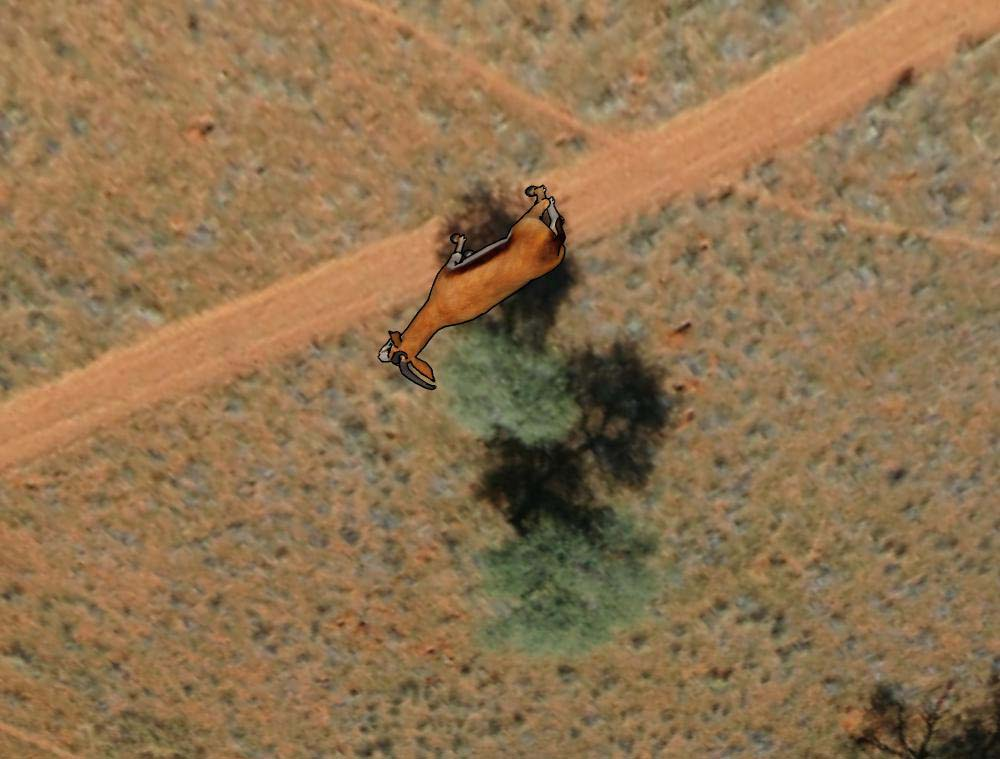springbok: (376, 182, 570, 391)
